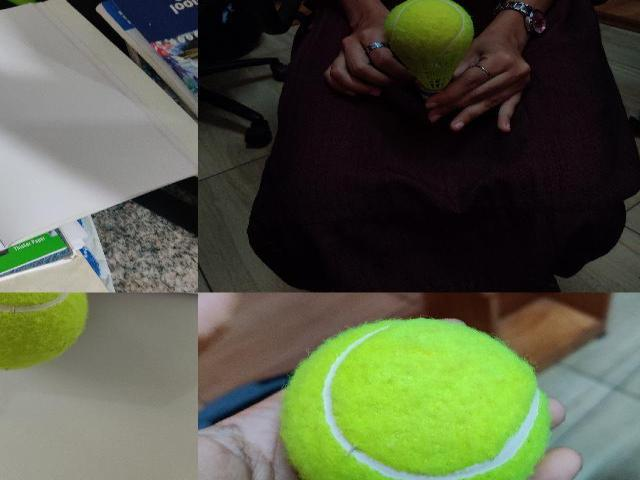tennis-ball: (282, 319, 551, 479), (0, 292, 89, 372), (385, 0, 473, 50)
